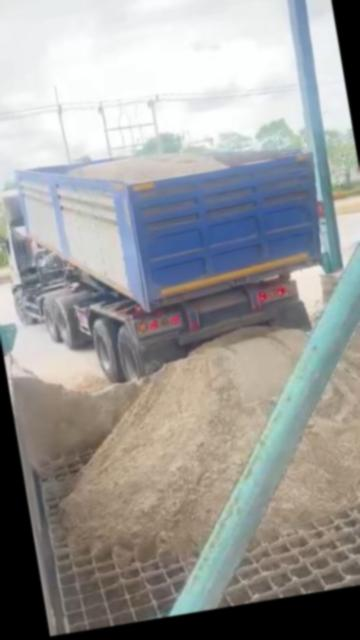sand: (65, 328, 306, 559), (264, 352, 360, 529), (14, 373, 144, 468), (70, 153, 226, 184), (66, 373, 106, 390), (352, 287, 360, 365)
